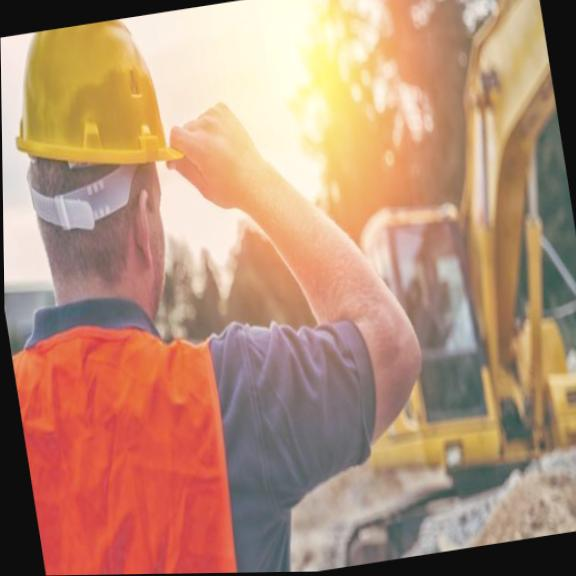safety_vest: (5, 275, 283, 576)
